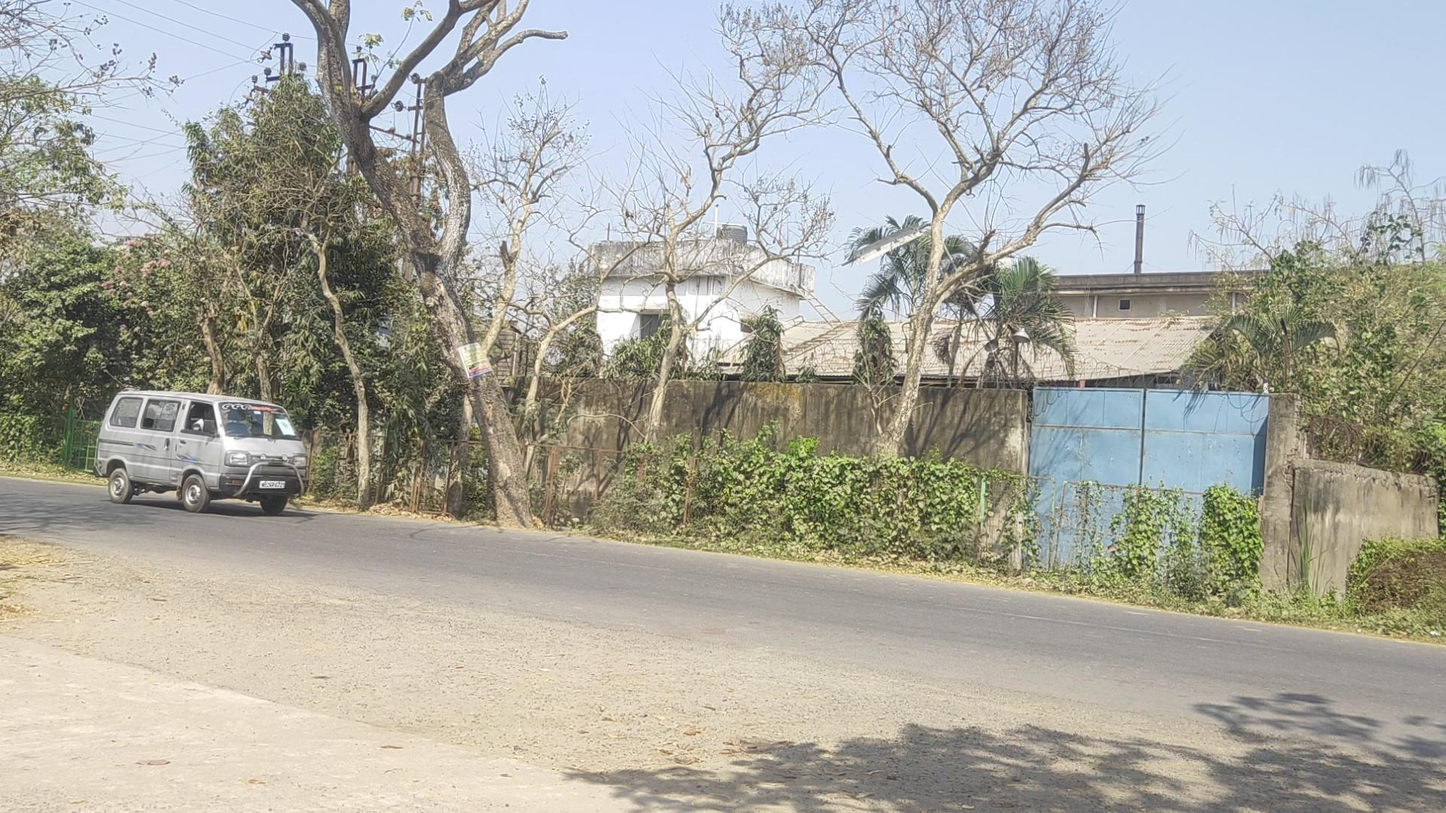van: (90, 390, 310, 513)
